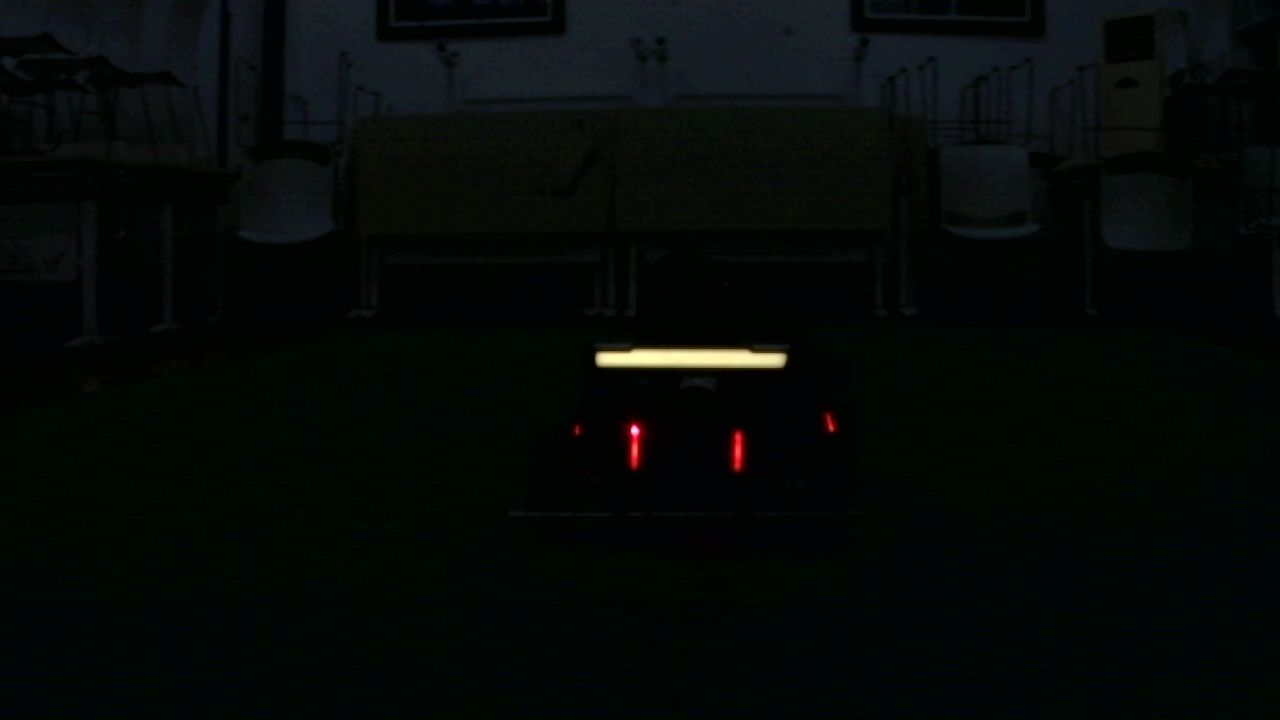lamp: (625, 424, 646, 471), (731, 425, 746, 472)
pair1: (629, 424, 743, 471)
